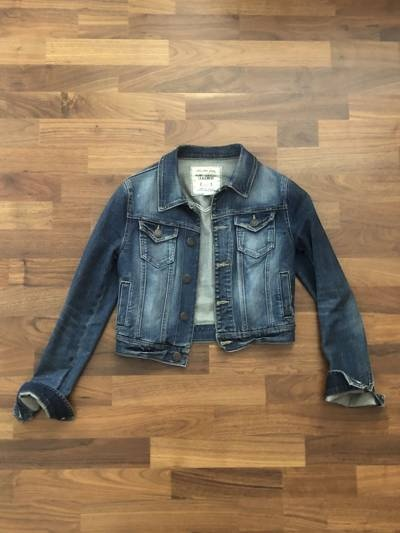Blazer: (12, 101, 395, 442)
